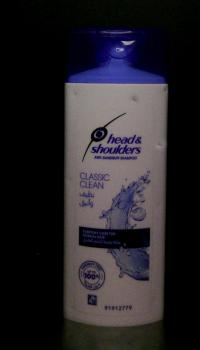dent_marginal: (64, 83, 84, 108), (122, 91, 146, 107), (154, 192, 166, 218), (152, 136, 168, 154), (161, 83, 175, 97)
